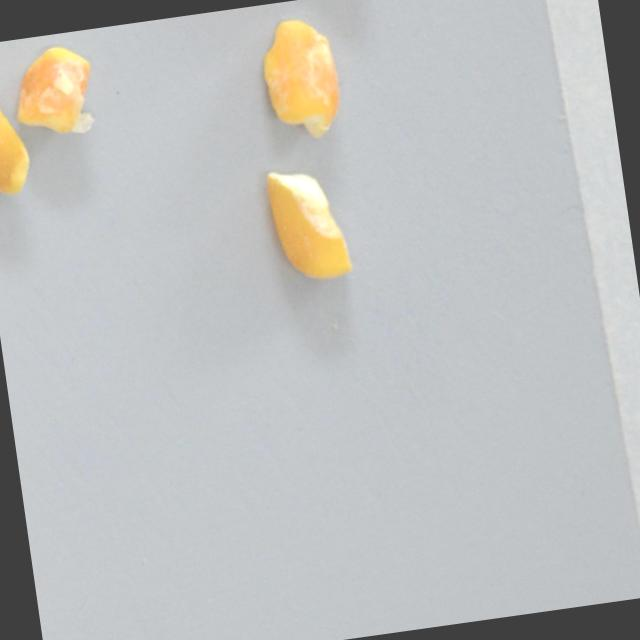dañado: (248, 9, 350, 149), (257, 158, 363, 291), (6, 39, 109, 148), (0, 84, 45, 199)
